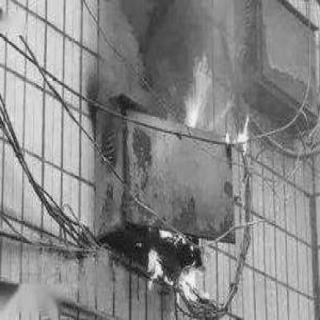Fire: (145, 228, 211, 304), (183, 51, 229, 126)
Smoke: (112, 0, 204, 62)
